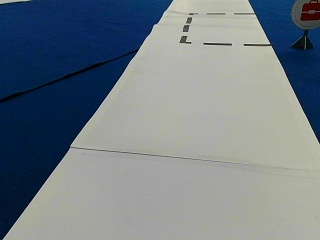company: (291, 0, 319, 29)
